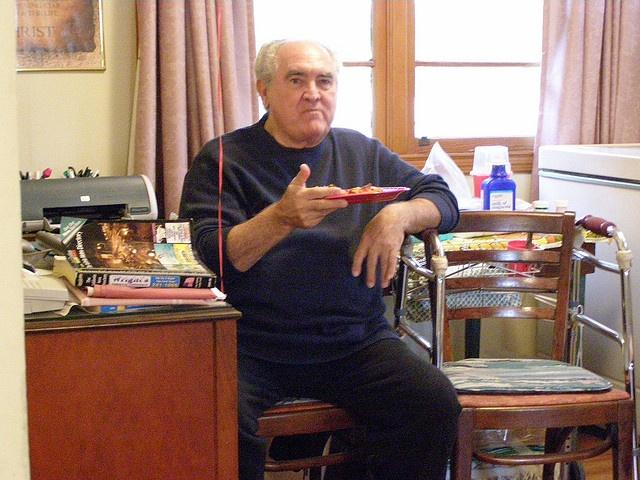Kursi: (421, 209, 635, 479)
Printer: (21, 173, 158, 236)
